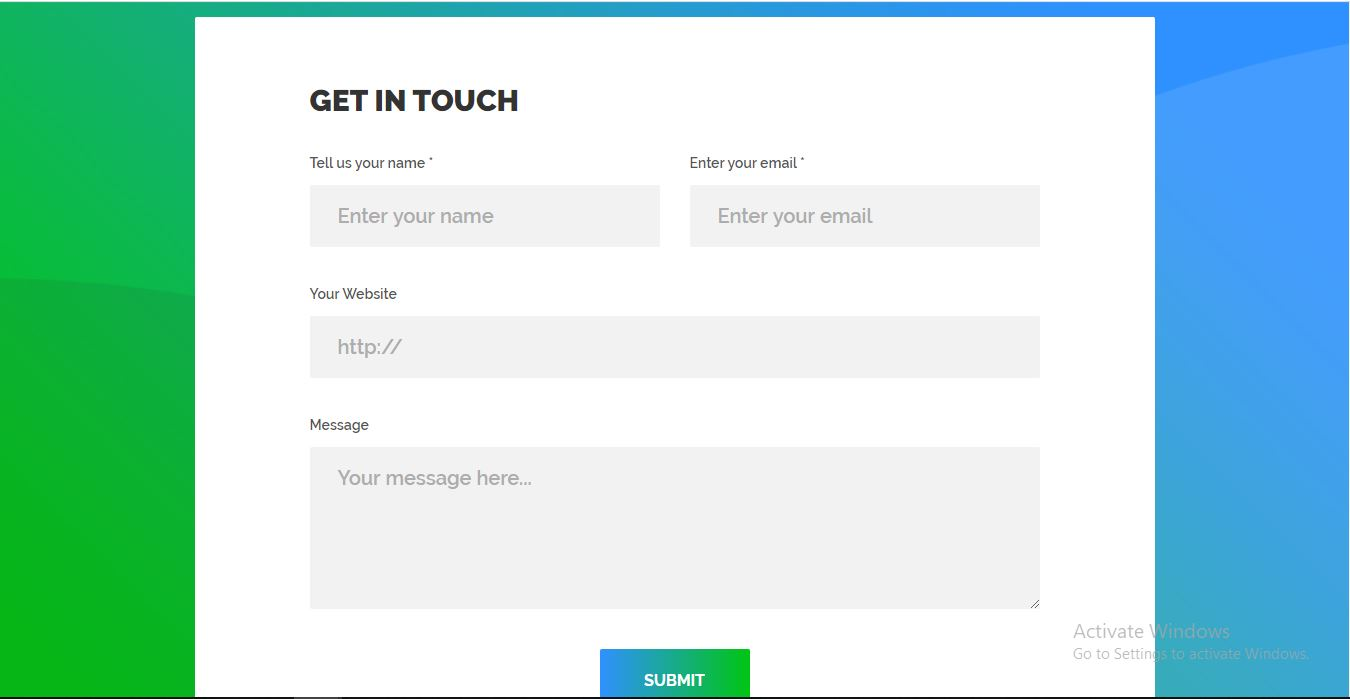Button: (593, 648, 757, 699)
Text Field: (313, 441, 1043, 608), (309, 306, 1049, 383), (307, 174, 667, 254), (693, 178, 1041, 250)
